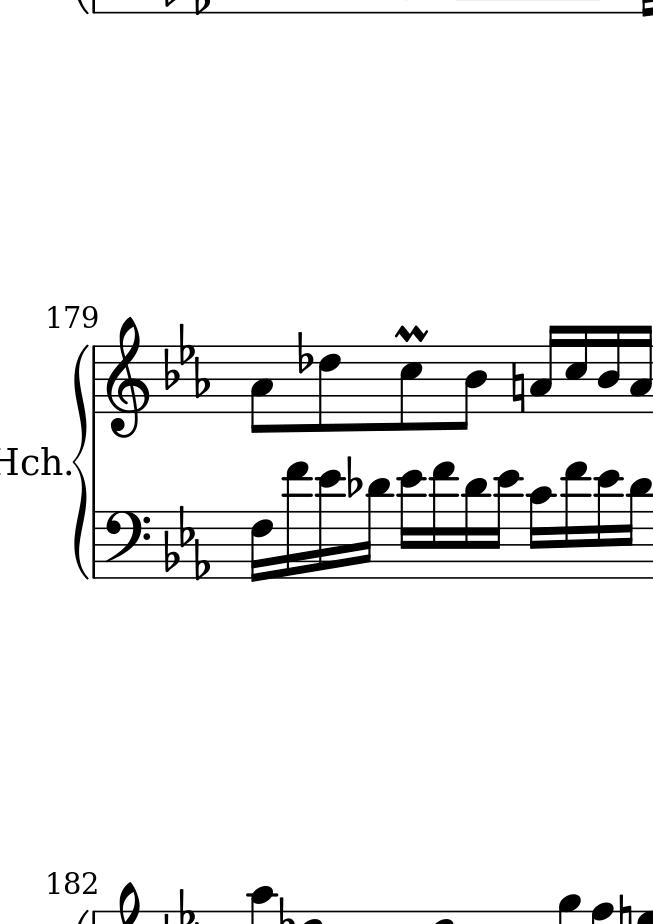1: (47, 305, 61, 331), (46, 870, 60, 896)
16_10: (528, 487, 553, 581)
16_11: (360, 478, 391, 580), (624, 475, 652, 582), (462, 476, 489, 580)
16_12: (489, 468, 523, 581), (594, 470, 623, 581), (398, 469, 426, 580), (316, 470, 344, 578)
16_13: (281, 461, 311, 581), (560, 460, 589, 581), (429, 461, 457, 580)
16_3: (530, 325, 559, 413), (628, 325, 652, 413)
16_4: (596, 324, 622, 415)
16_5: (564, 324, 588, 412)
16_6: (249, 509, 274, 583)
2: (78, 869, 99, 896)
7: (64, 304, 80, 330)
8: (60, 869, 82, 896)
8_3: (249, 346, 275, 435)
8_4: (455, 346, 487, 432)
8_5: (399, 344, 422, 433)
8_6: (316, 346, 343, 434)
9: (80, 302, 99, 331)
Brace: (72, 348, 90, 578)
E_F: (163, 323, 210, 400), (162, 505, 210, 577)
Fclef: (102, 508, 150, 580)
Flat: (346, 454, 363, 500), (296, 330, 313, 375)
Gclef: (104, 314, 148, 442)
Hch: (1, 441, 62, 476)
Natural: (510, 360, 526, 416)
ShortTrill: (394, 324, 429, 344)
Single_barline: (89, 513, 102, 577), (88, 346, 100, 413)
